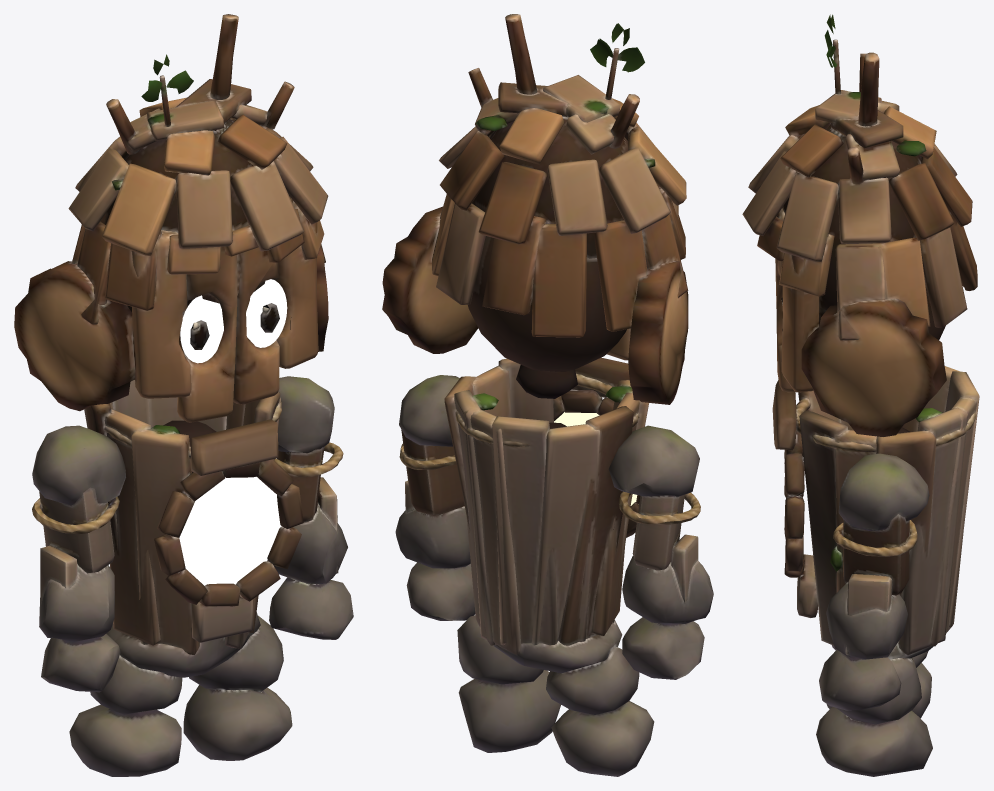
File: little_golem.glb
3 renders of one model, left to right at view 1: azimuth 30°, elevation 25°; view 2: azimuth 150°, elevation 25°; view 3: azimuth 270°, elevation 25°, orthographic. The views are drawn at different scales.
Visible parts, largest first — view 1: Head, Body, ArmL, ArmR, Body_Window, Head_Eyes, Body_Moon; view 2: Head, Body, ArmL, ArmR; view 3: Head, Body, ArmR.
Part boxes in pixels (left/top/right/bottom): Head: left=14, top=14, right=328, bottom=422; Body: left=69, top=380, right=303, bottom=776; ArmL: left=32, top=425, right=125, bottom=692; ArmR: left=267, top=376, right=353, bottom=639; Body_Window: left=179, top=476, right=281, bottom=585; Head_Eyes: left=180, top=279, right=287, bottom=363; Body_Moon: left=195, top=498, right=221, bottom=571; Head: left=382, top=14, right=688, bottom=404; Body: left=444, top=357, right=654, bottom=776; ArmL: left=608, top=425, right=713, bottom=679; ArmR: left=395, top=375, right=475, bottom=620; Head: left=742, top=14, right=977, bottom=436; Body: left=772, top=366, right=979, bottom=776; ArmR: left=819, top=453, right=929, bottom=710.
Bounding box in the file's own units: 0.3738 × 0.8481 × 0.2561.
Materials: 7 (4 with a texture image).
